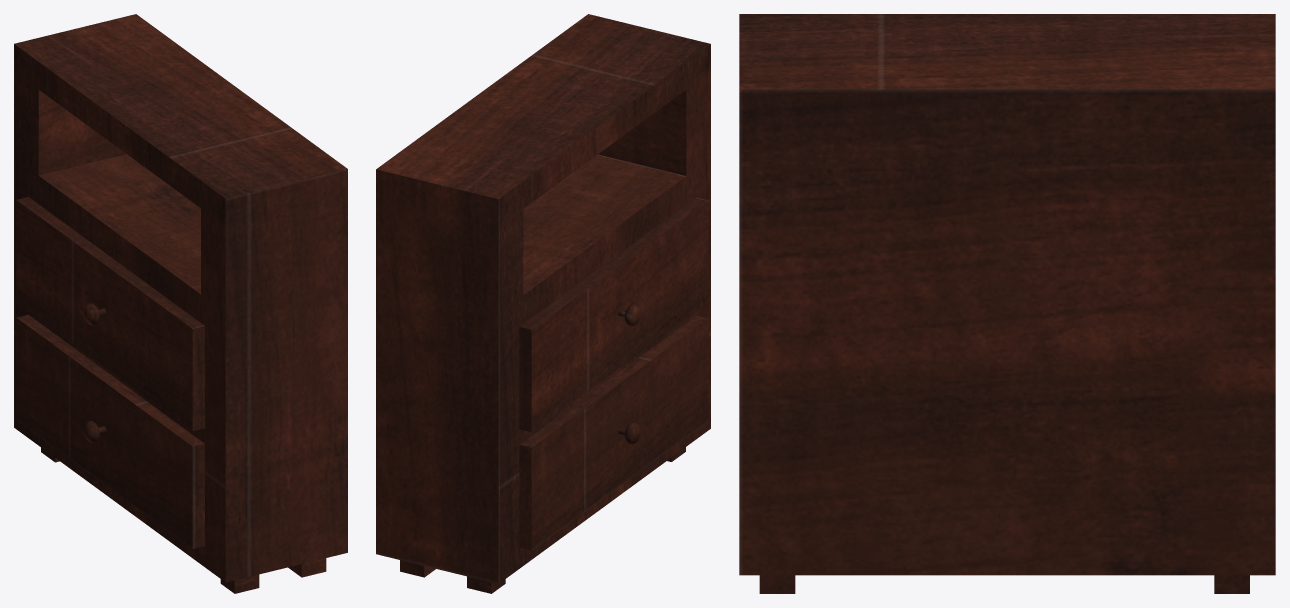
The model's file is dresser.fbx.
The picture shows the model from 3 angles, left to right: view 1: azimuth 30°, elevation 25°; view 2: azimuth 150°, elevation 25°; view 3: azimuth 270°, elevation 25°; orthographic projection. The views are drawn at different scales.
Parts seen in each view (by area): view 1: Cube; view 2: Cube; view 3: Cube.
Boxes of the visible parts, x1,y1,x2,y2 form: Cube: (14,14,347,593); Cube: (376,14,710,593); Cube: (739,14,1275,593).
Bounding box in the file's own units: 1.28 × 3.17 × 3.
Materials: 1 (1 with a texture image).
